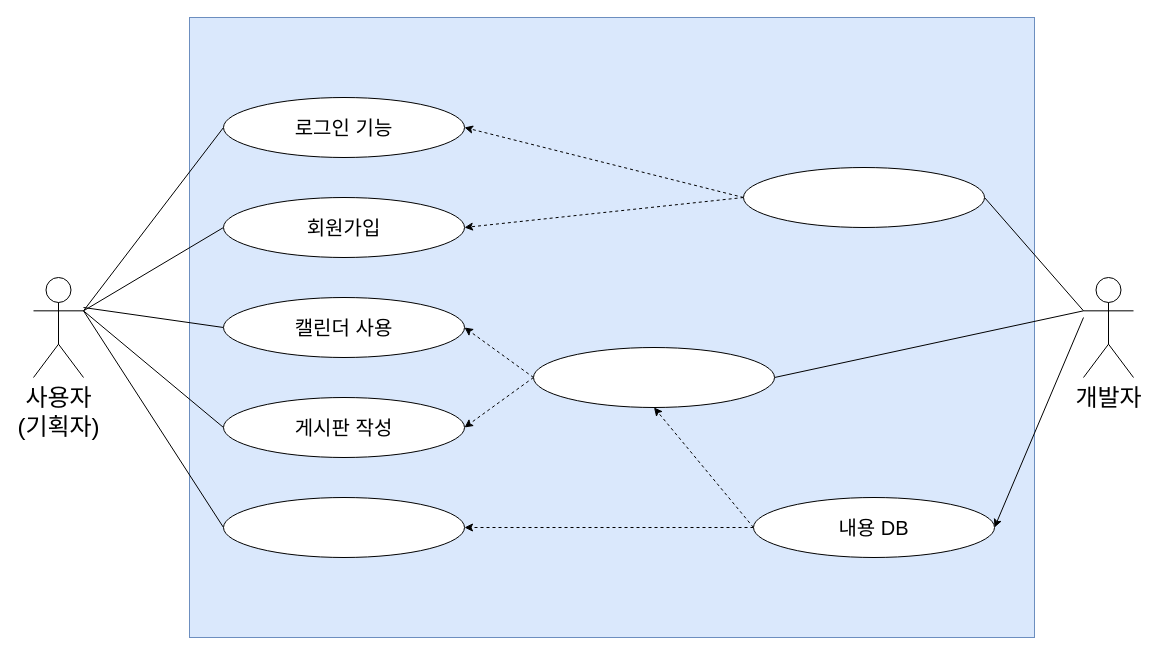
Some shapes in this 1158 by 655 pixel diagram are drawn without their labels. The centre of each missing label's shape, as x and y in pixels:
"여행 가계부 작성" belongs at (343,527).
"이미지 업로드" belongs at (653,377).
"정보 DB" belongs at (863,197).
